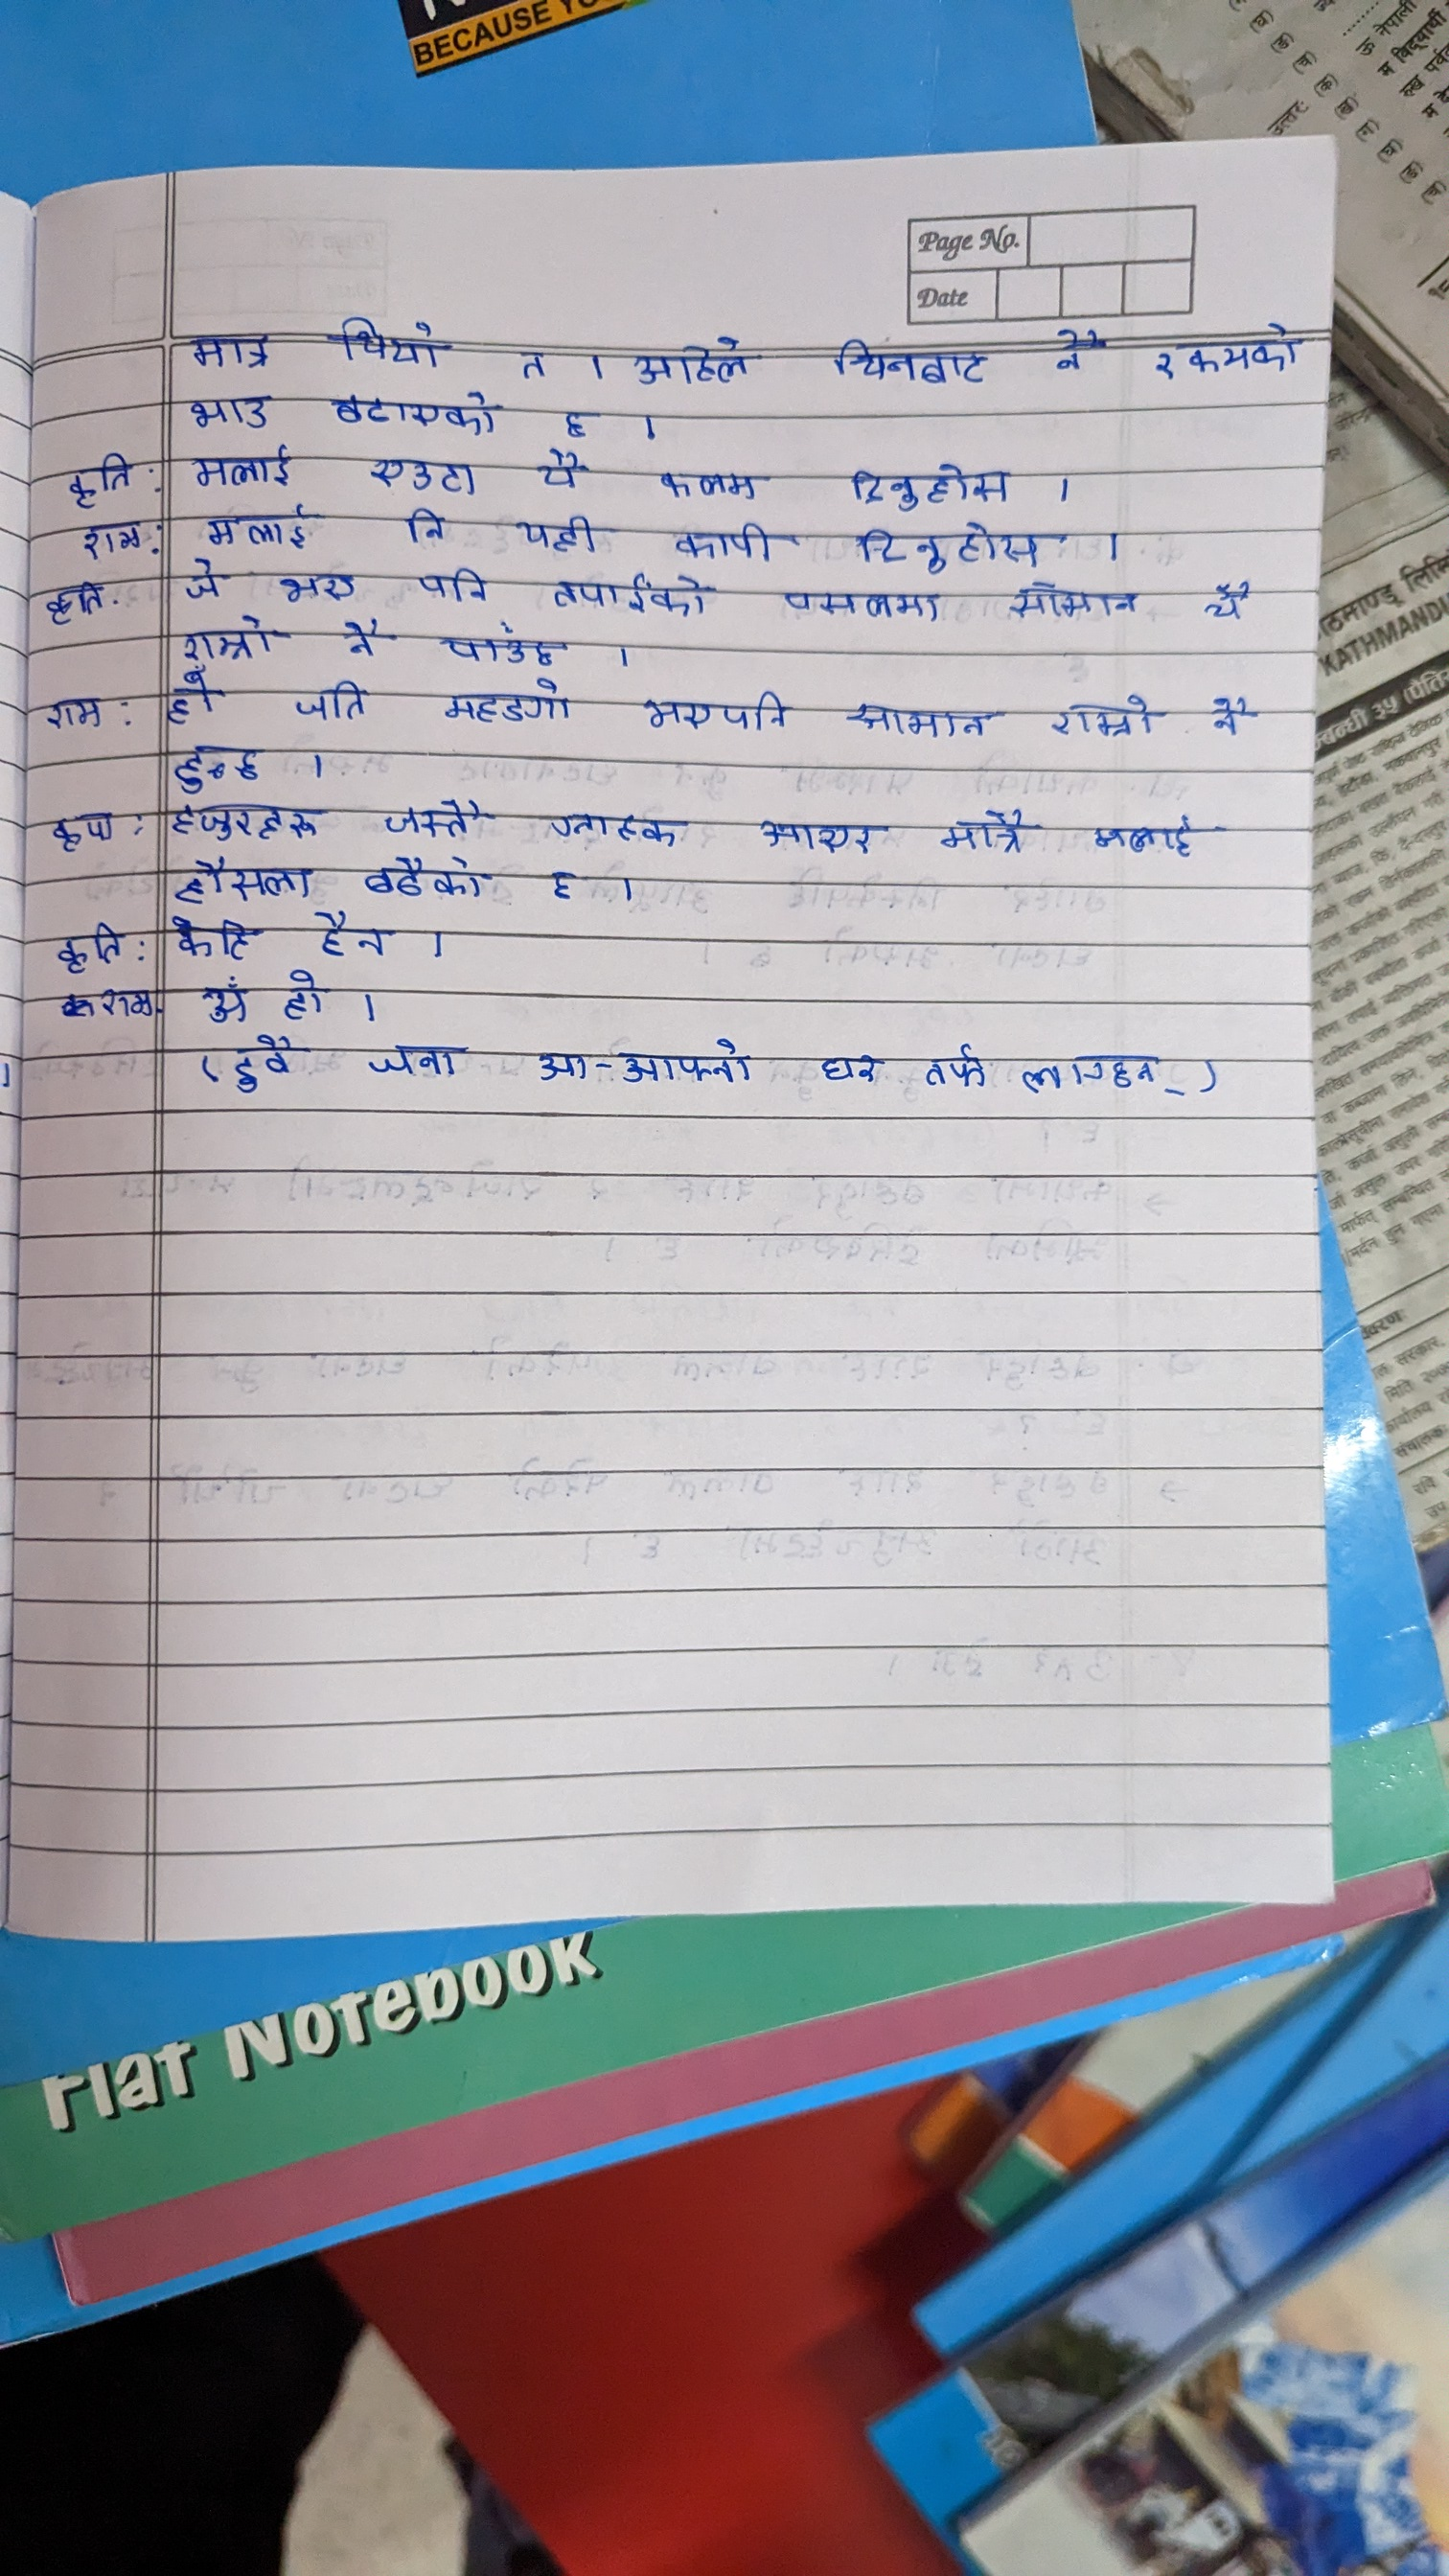text: (527, 1026, 761, 1095), (844, 515, 1058, 571), (839, 446, 1008, 515), (322, 379, 504, 441), (837, 685, 1003, 750), (1014, 1046, 1192, 1104), (639, 679, 796, 745), (619, 324, 761, 393), (545, 566, 729, 619), (1146, 318, 1302, 379), (828, 334, 998, 389), (326, 306, 456, 373), (1085, 805, 1231, 862), (778, 580, 954, 626), (168, 796, 334, 844), (435, 676, 580, 729), (547, 801, 695, 851), (361, 853, 502, 902), (168, 855, 320, 901), (195, 497, 320, 552), (663, 515, 807, 563), (1001, 579, 1146, 625), (748, 812, 893, 858), (441, 617, 566, 671), (368, 1024, 471, 1086), (936, 800, 1040, 860), (218, 1030, 308, 1097), (180, 442, 306, 490), (382, 791, 499, 842), (361, 446, 488, 492), (1049, 692, 1164, 741), (306, 906, 409, 961), (173, 614, 287, 663), (62, 444, 142, 513), (166, 740, 265, 791), (170, 911, 264, 964), (184, 320, 280, 372), (410, 554, 497, 609), (290, 672, 377, 727), (658, 460, 768, 502), (915, 1039, 996, 1093), (50, 918, 131, 971), (41, 803, 124, 855), (517, 511, 607, 557), (184, 389, 283, 430), (814, 1037, 885, 1093), (271, 563, 361, 607), (1042, 320, 1113, 375), (39, 579, 122, 625), (156, 671, 223, 725), (1191, 573, 1261, 621), (39, 688, 117, 731), (1207, 686, 1263, 743), (202, 973, 258, 1028), (274, 970, 333, 1023), (74, 520, 152, 557), (531, 442, 593, 488), (336, 614, 396, 660), (396, 499, 455, 543), (96, 985, 166, 1021), (510, 333, 554, 384), (180, 561, 234, 603), (536, 865, 591, 904), (559, 395, 600, 441)
